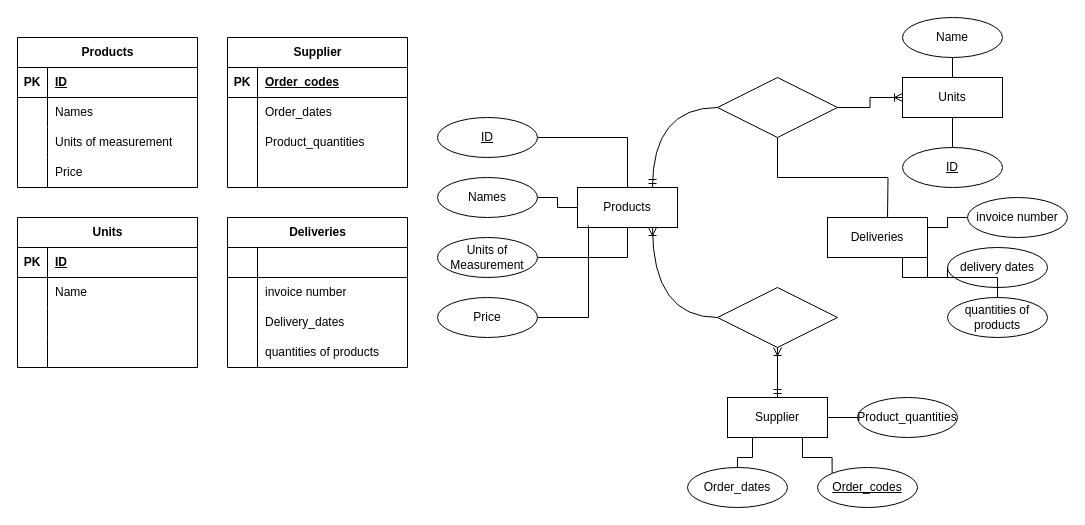
The diagram is 1085 pixels wide and 525 high, and some of its shapes have lost their labels. The box of each missing label's shape, as (x1, y1, x2, y2) in pixels:
Ship: (716, 76, 838, 138)
Supply: (716, 286, 838, 348)
